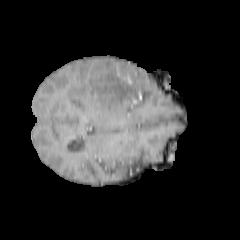glioma: (65, 59, 152, 117)
